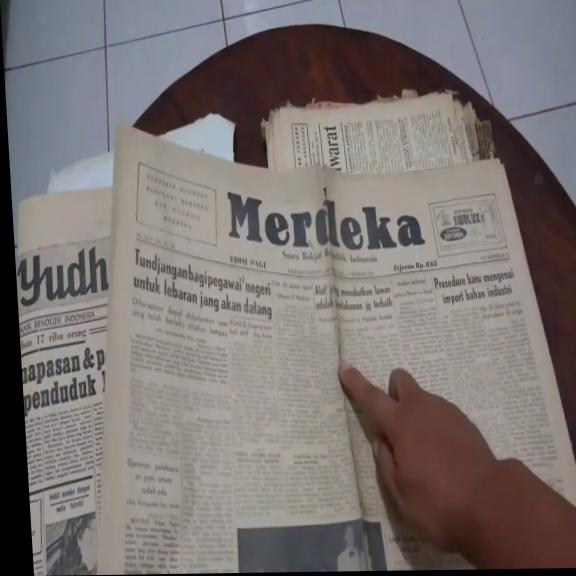Kertas: (77, 111, 360, 573), (77, 116, 537, 288), (12, 182, 131, 568)
